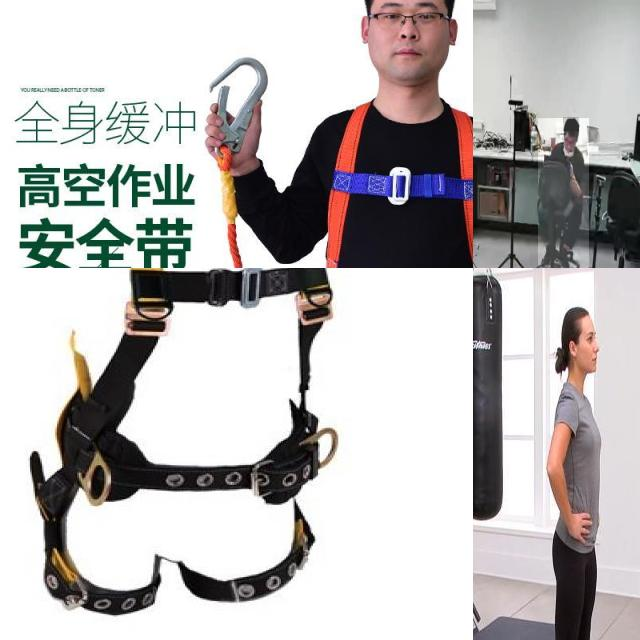Harness: (30, 268, 337, 616), (318, 102, 473, 268), (173, 505, 315, 602), (203, 54, 266, 170)
No_Ear-Protection: (559, 329, 579, 365)
face_nomask: (586, 344, 608, 377), (561, 128, 577, 154)
hand_noglove: (548, 503, 599, 551)
head_nohelmet: (563, 118, 579, 132)
person: (545, 305, 610, 640), (538, 118, 589, 268)
